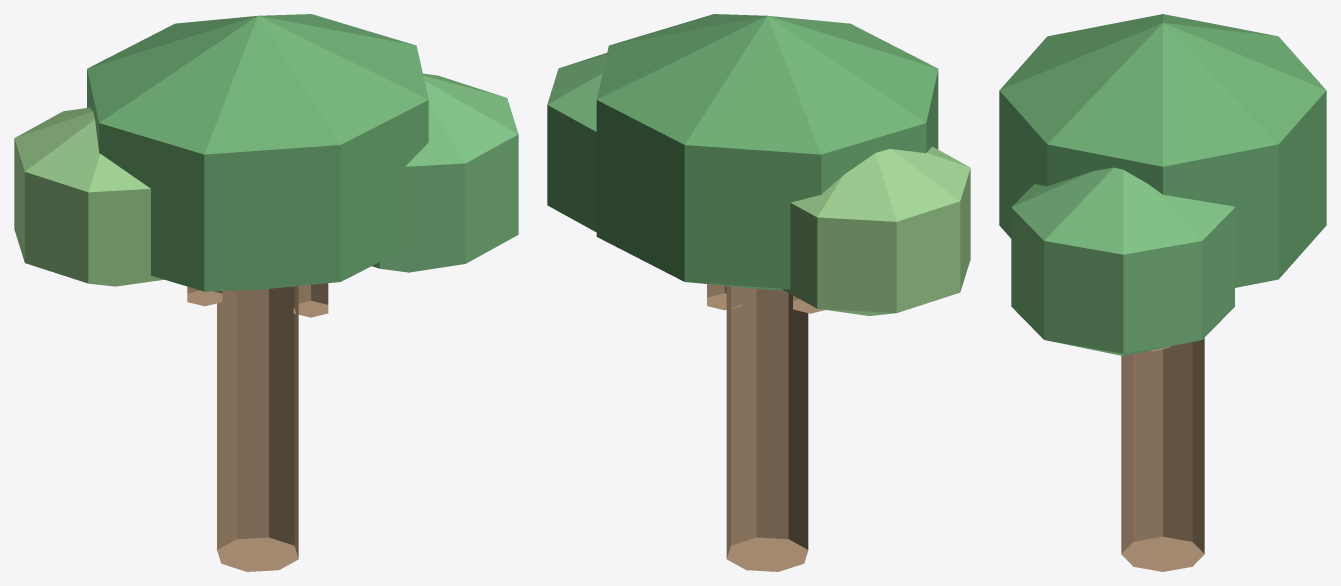
File: mango_tropical.glb
3 views of the same model, side by side, from view 1: azimuth 30°, elevation 25°; view 2: azimuth 150°, elevation 25°; view 3: azimuth 270°, elevation 25° (orthographic).
Visible parts, largest first — view 1: mango_tropical; view 2: mango_tropical; view 3: mango_tropical.
Part boxes in pixels (left/top/right/bottom): mango_tropical: left=14, top=14, right=518, bottom=571; mango_tropical: left=547, top=14, right=970, bottom=571; mango_tropical: left=999, top=14, right=1326, bottom=571.
Size of the model in its own units: 5.06 by 5.9 by 3.29.
